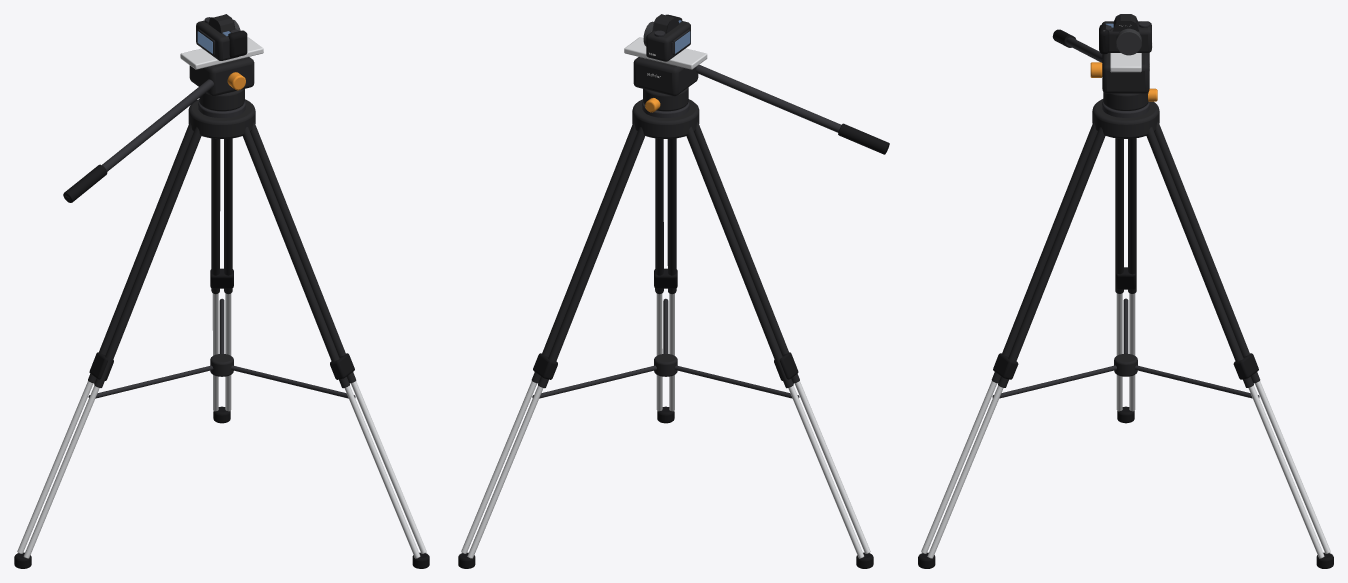
The model's file is fujifilm_xh2s_tripie_video.glb.
3 views of the same model, side by side, from view 1: azimuth 30°, elevation 25°; view 2: azimuth 150°, elevation 25°; view 3: azimuth 270°, elevation 25° (orthographic).
Parts seen in each view (by area): view 1: Fujifilm X-H2S en tripié de video; view 2: Fujifilm X-H2S en tripié de video; view 3: Fujifilm X-H2S en tripié de video.
Boxes of the visible parts, x1,y1,x2,y2 form: Fujifilm X-H2S en tripié de video: (14,14,429,568); Fujifilm X-H2S en tripié de video: (458,14,889,568); Fujifilm X-H2S en tripié de video: (918,14,1333,568).
Bounding box in the file's own units: 0.9175 × 1.4 × 1.05.
